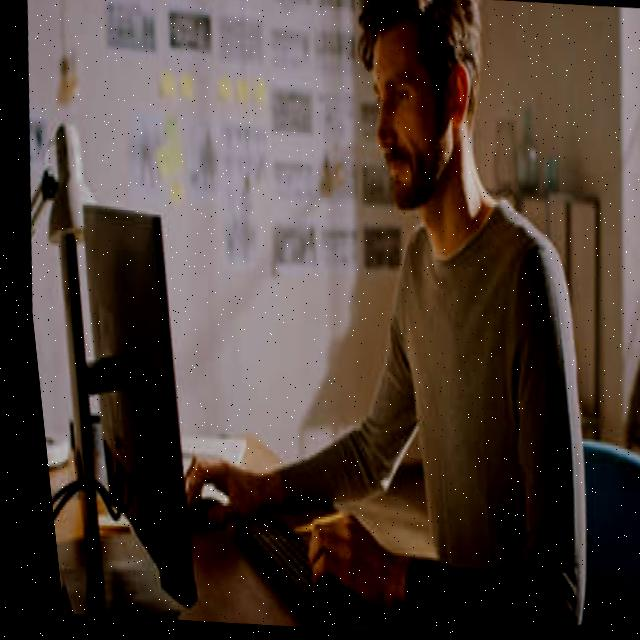desktop-person: (0, 0, 629, 640)
